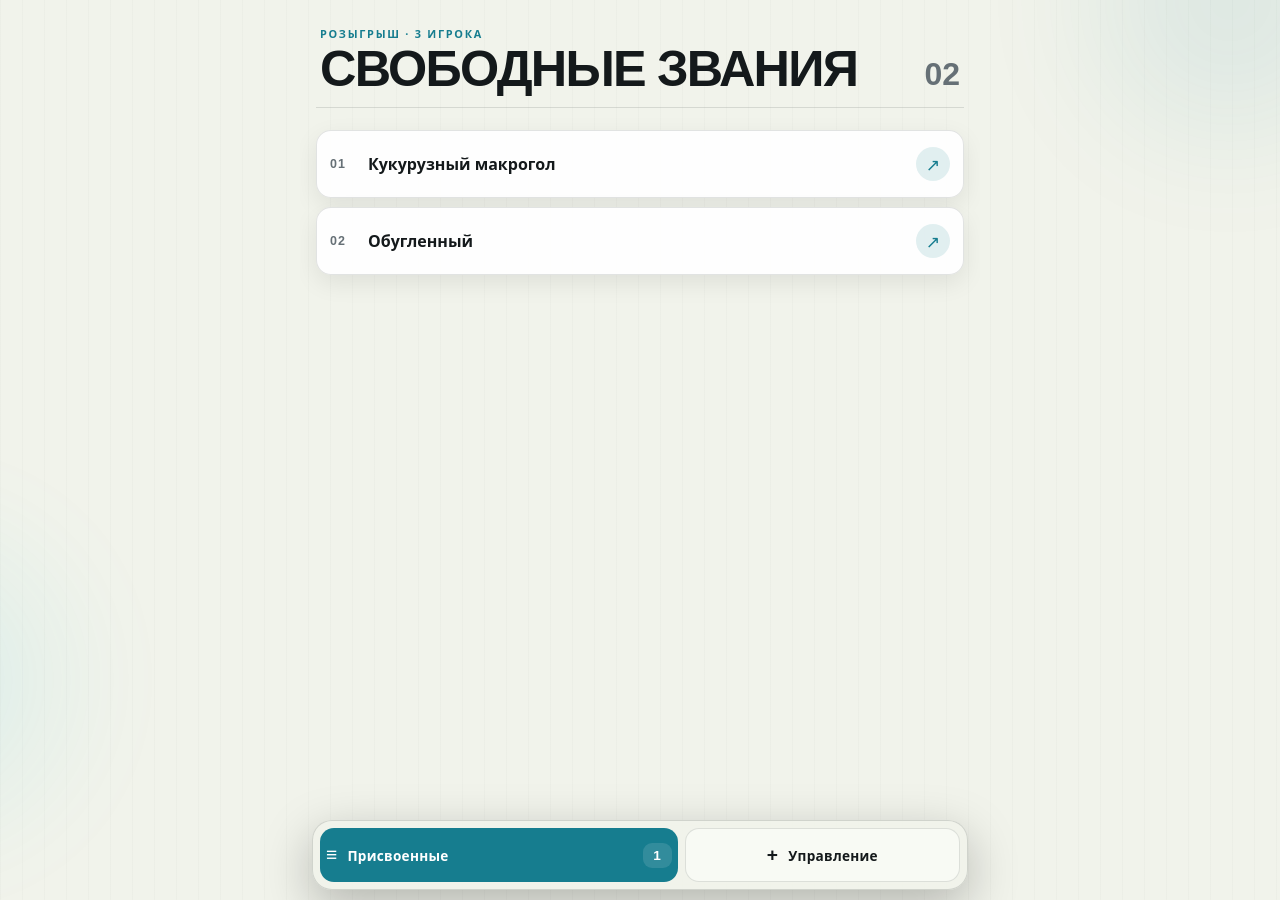
Scenario: Telegram rank app screens › shows assigned ranks grouped under all three friends
Click the button with aria-label "Присвоенные звания": click(398, 855) [320, 828, 678, 882]
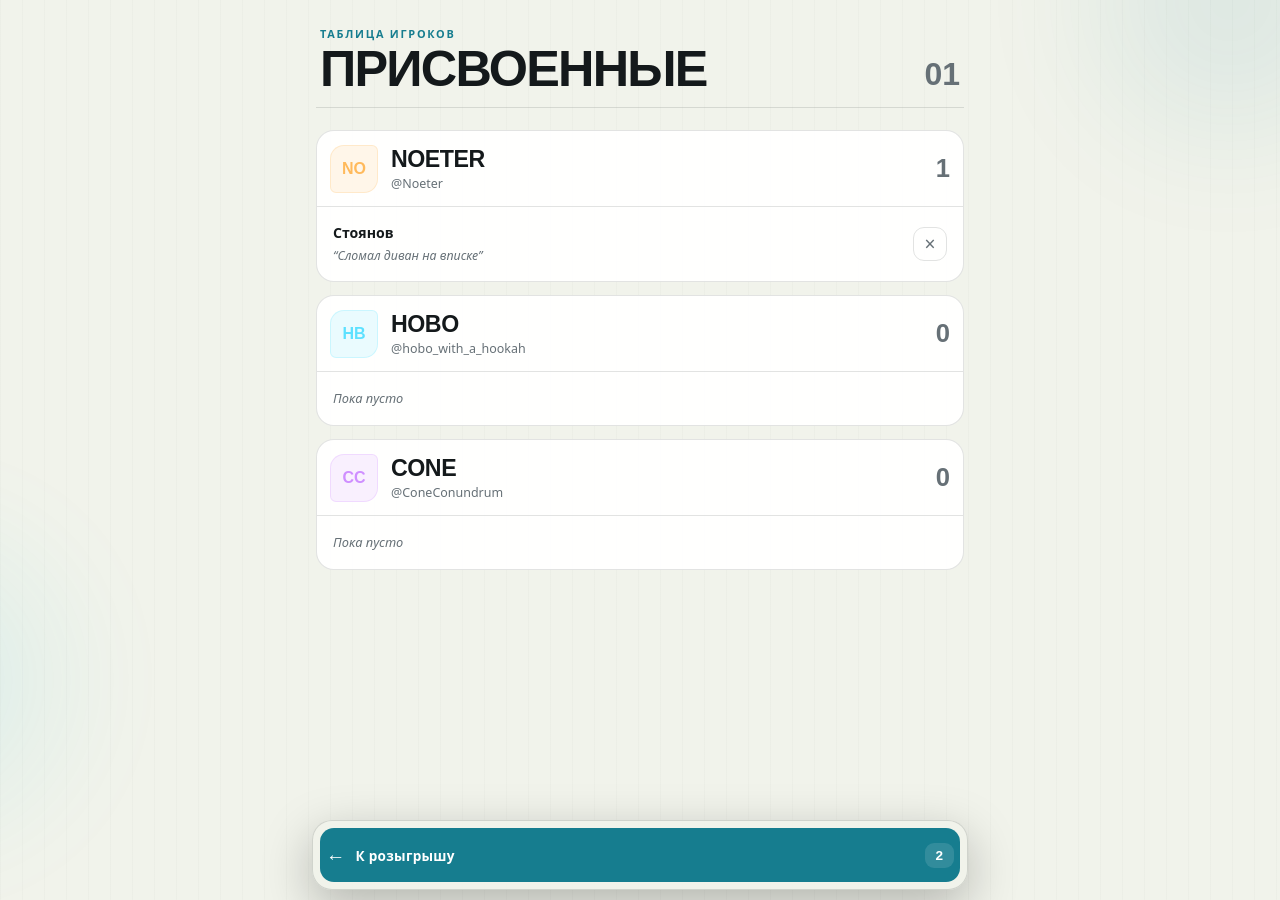
Check: the heading "Присвоенные" is shown, box [320, 47, 707, 90]
Check: the text "@Noeter" is shown, box [391, 174, 443, 192]
Check: the text "@hobo_with_a_hookah" is shown, box [391, 340, 526, 357]
